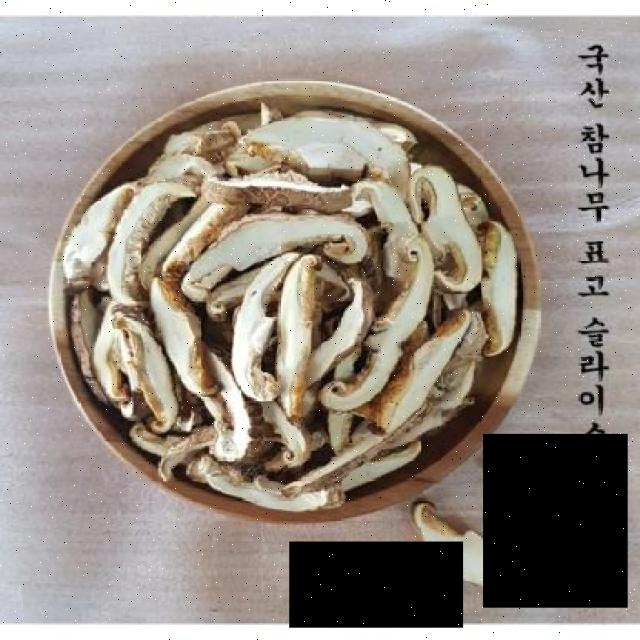Mushroom: (483, 434, 628, 608), (289, 542, 463, 628)
